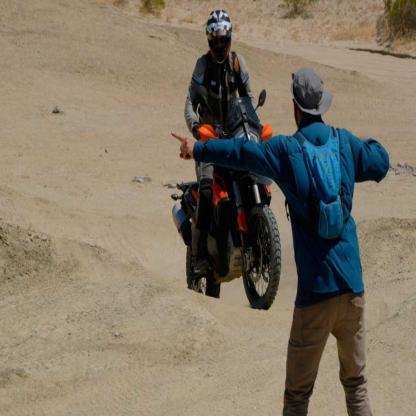helmet: (205, 9, 233, 64)
nohelmet: (289, 67, 333, 132)
